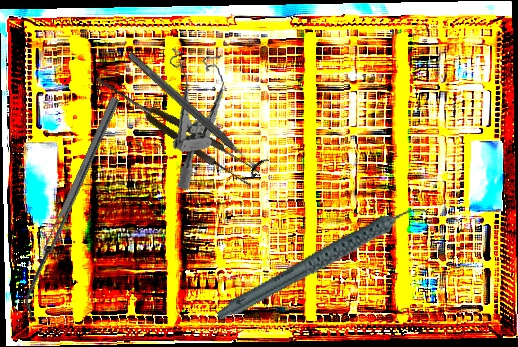Fixation Ring: (120, 44, 271, 180)
Handpiece: (204, 204, 441, 322)
Spatula Surgical: (15, 96, 129, 319)
Speculum: (158, 40, 240, 192)
Tissue Forceps: (91, 67, 261, 190)
